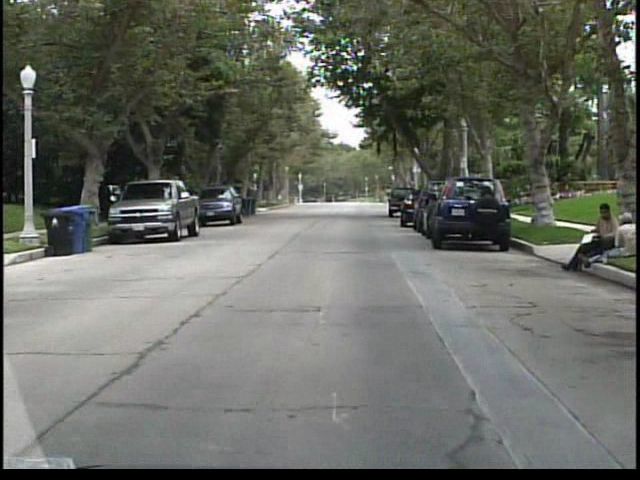person: (558, 201, 615, 274), (607, 213, 635, 260)
